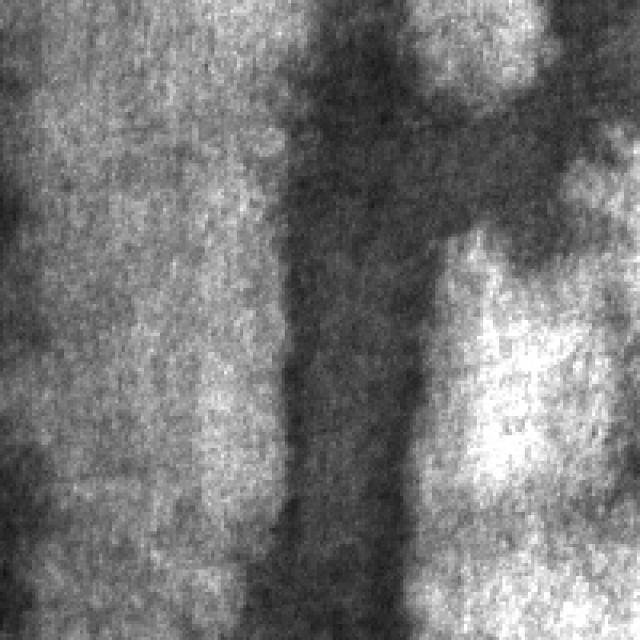patches: (227, 0, 458, 634), (464, 0, 637, 262)
